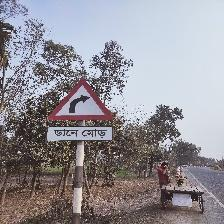Right-turn: (46, 78, 115, 143)
